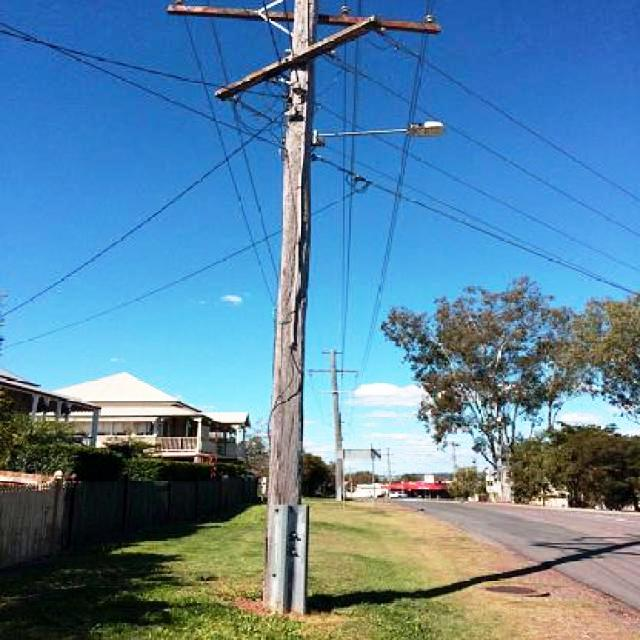poles: (165, 0, 400, 609)
wires: (0, 23, 278, 354), (414, 61, 634, 303)
